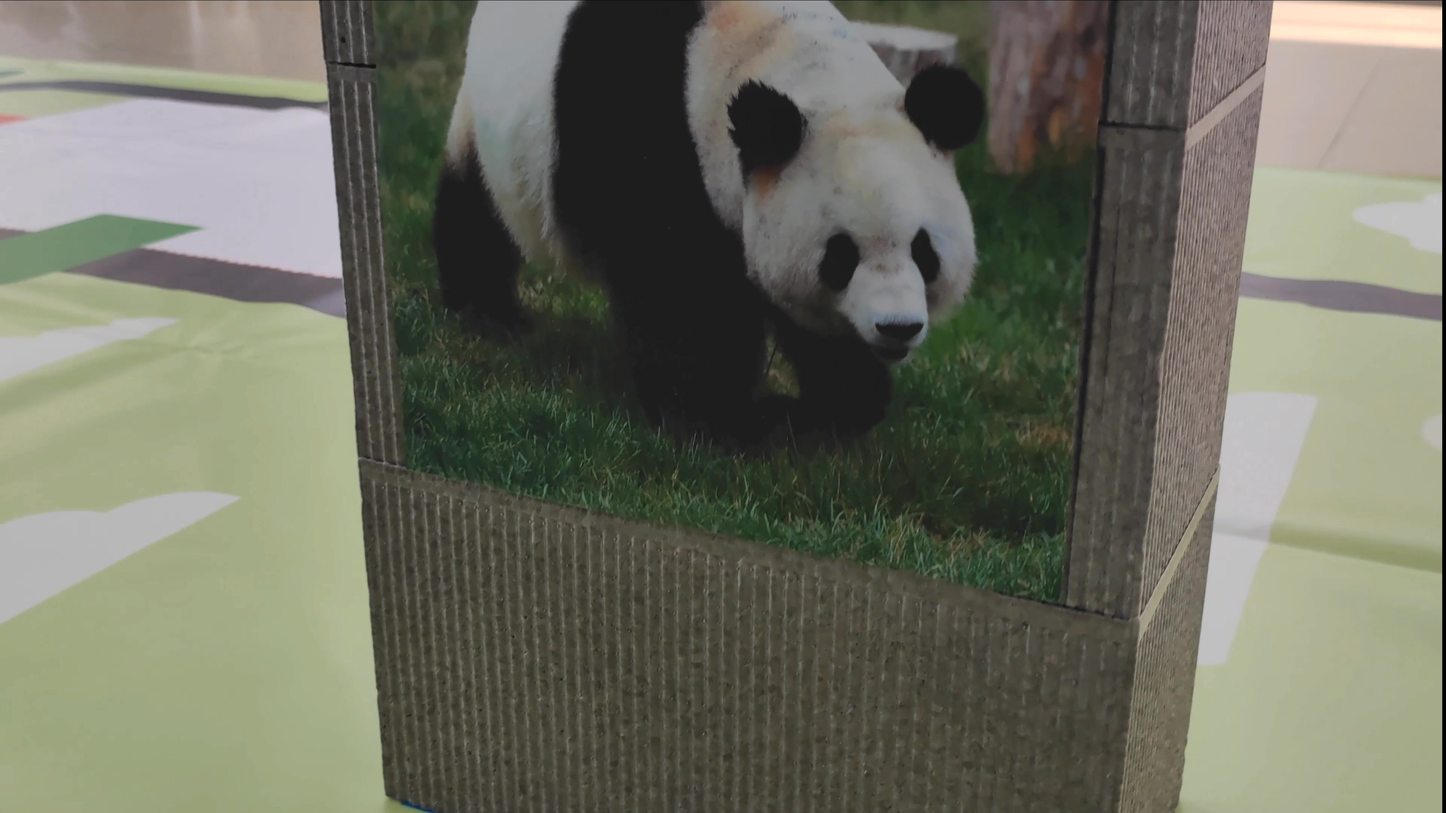panda: (417, 1, 1007, 446)
